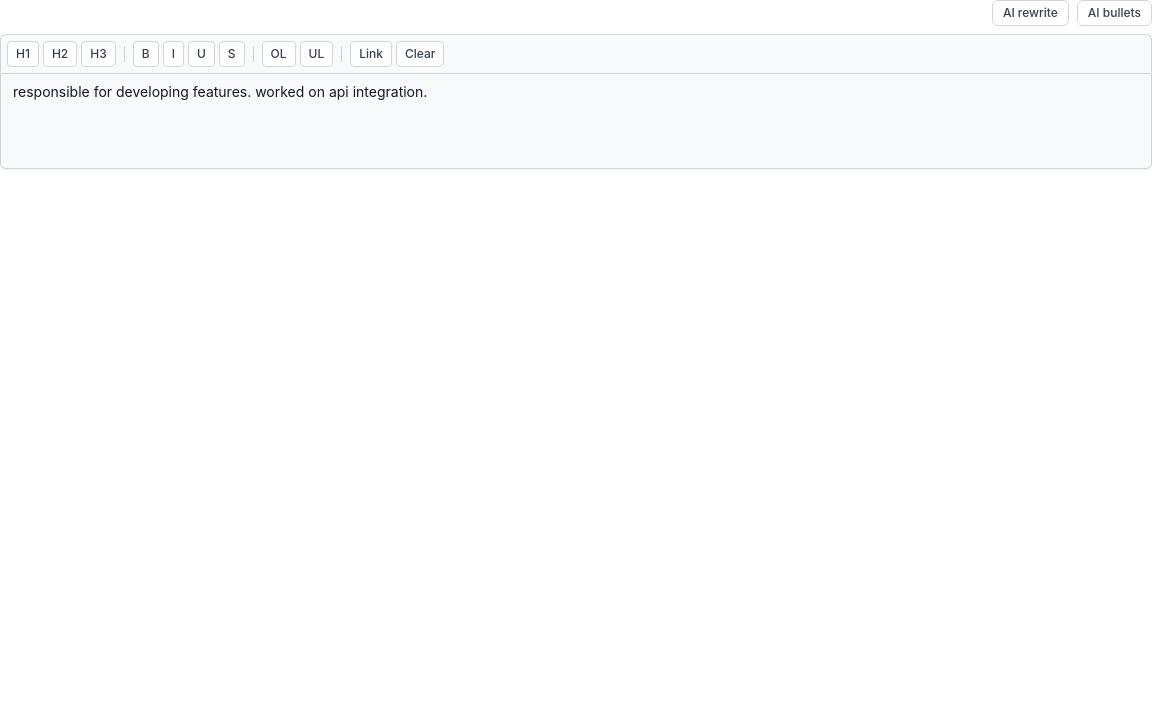
Test: RichTextarea - AI Assist › AI rewrite opens prompt modal
Step 1. Click the button "AI rewrite" → coordinates (1030, 13), box [992, 0, 1069, 26]
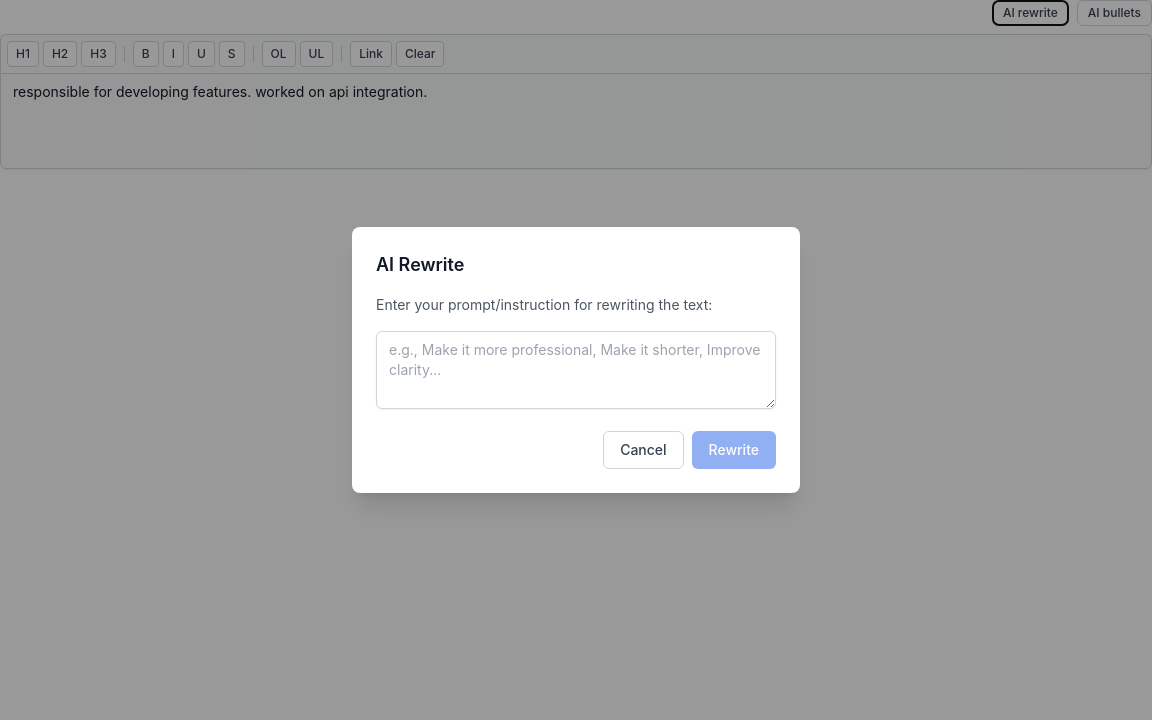
Now the text "Enter your prompt/instruction for rewriting the text:" is shown, box [376, 296, 712, 313]
Now the text box with placeholder "Make it more professional" is shown, box [376, 331, 776, 409]
Now the button "Cancel" is shown, box [603, 431, 684, 469]
